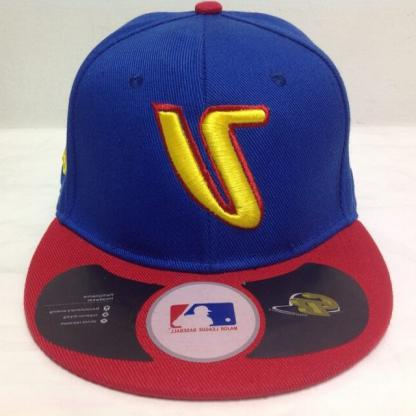cap: (23, 8, 393, 403)
